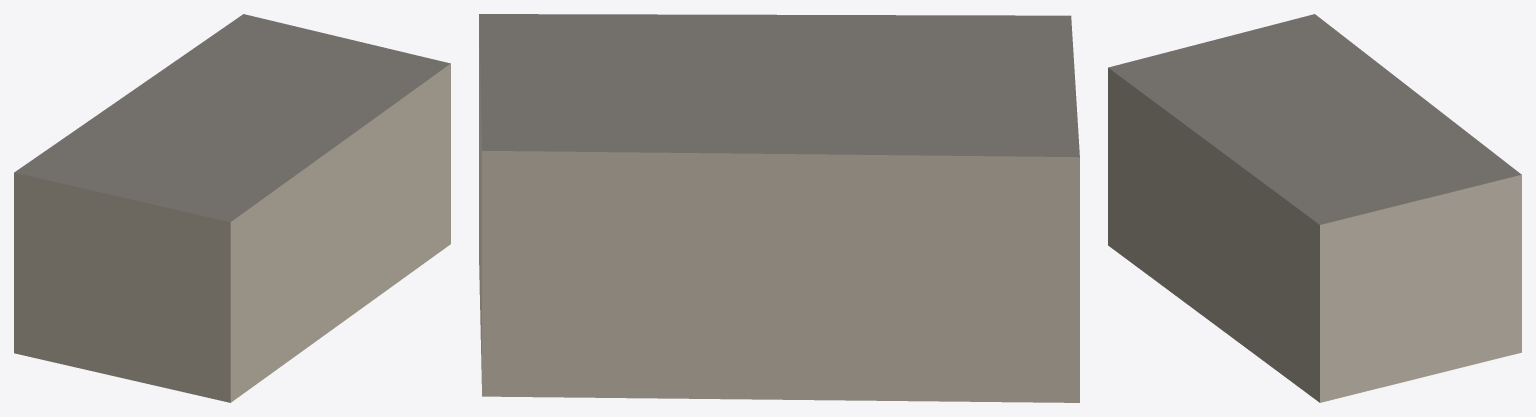
The picture shows the model from 3 angles, left to right: view 1: azimuth 30°, elevation 25°; view 2: azimuth 150°, elevation 25°; view 3: azimuth 270°, elevation 25°; orthographic projection. The views are drawn at different scales.
Parts seen in each view (by area): view 1: HP-w505633401; view 2: HP-w505633401; view 3: HP-w505633401.
Boxes of the visible parts, x1,y1,x2,y2 form: HP-w505633401: (14, 14, 450, 402); HP-w505633401: (479, 14, 1079, 402); HP-w505633401: (1108, 14, 1521, 402).
Size of the model in its own units: 38.15 by 15 by 31.61.
